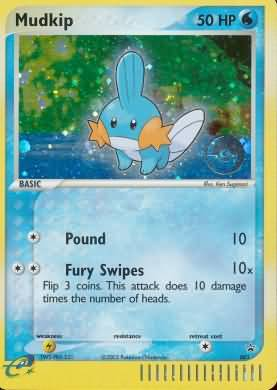mudkip: (75, 50, 208, 174)
